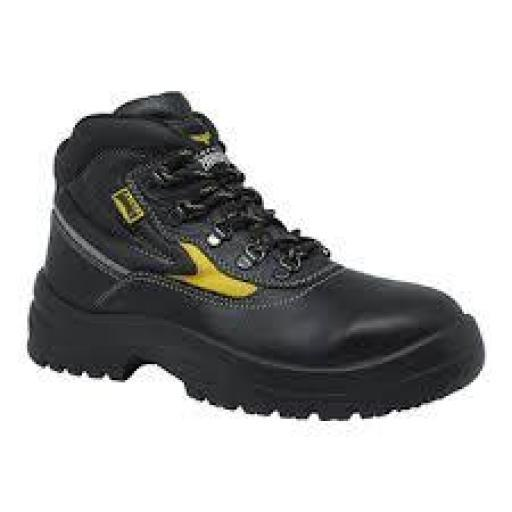safety_boots: (16, 93, 486, 476)
